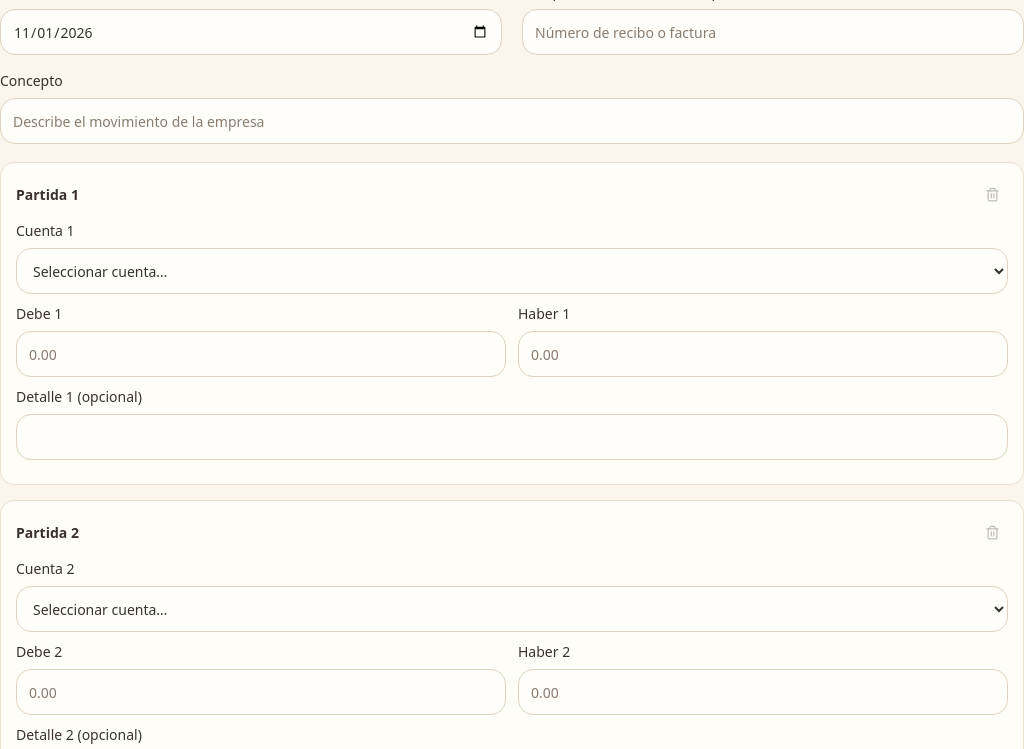
it: Registro en el libro diario › no permite poner debe y haber en una misma partida
The image size is (1024, 749).
Type "Movimiento" into the field labelled "Concepto" at (512, 121), box [0,98,1023,144]
Select "5101 · Alquiler" in the dropdown labelled "Cuenta 1" at (512, 271), box [16,248,1008,294]
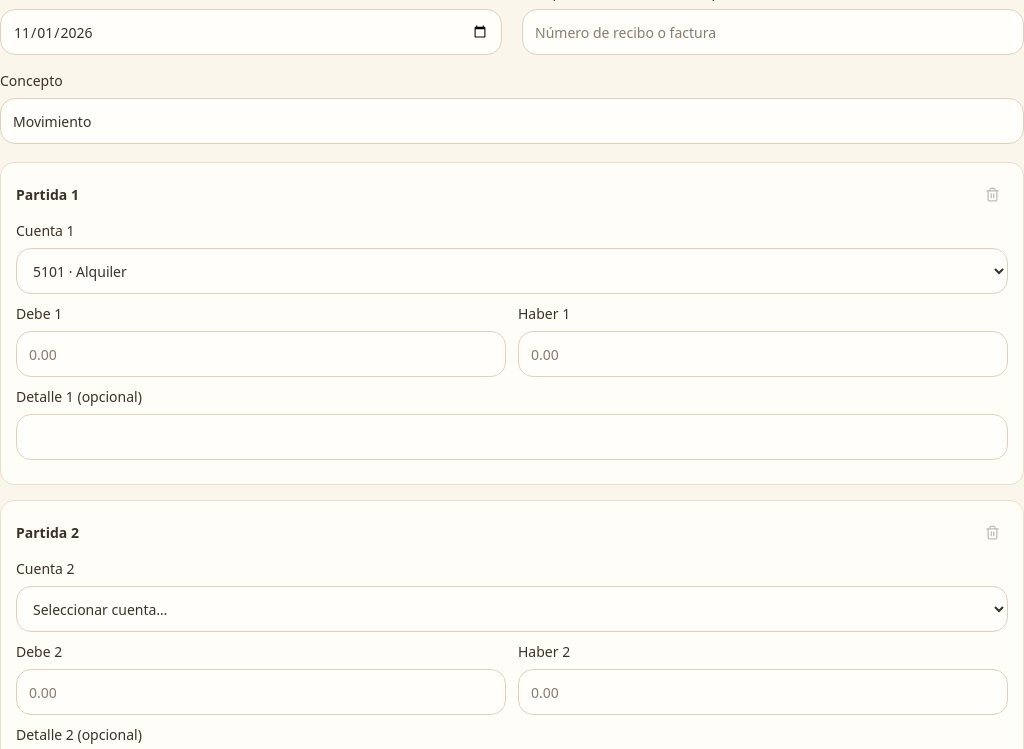
Type "10" into the field labelled "Debe 1" at (261, 354), box [16,331,506,377]
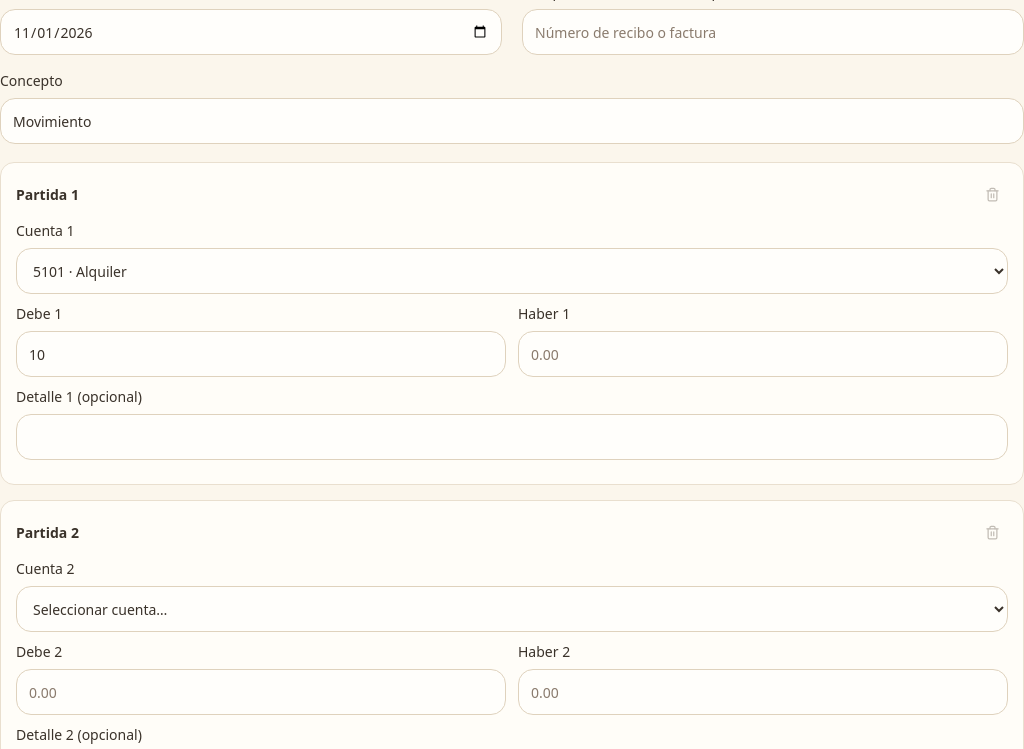
Type "10" into the field labelled "Haber 1" at (763, 354), box [518,331,1008,377]
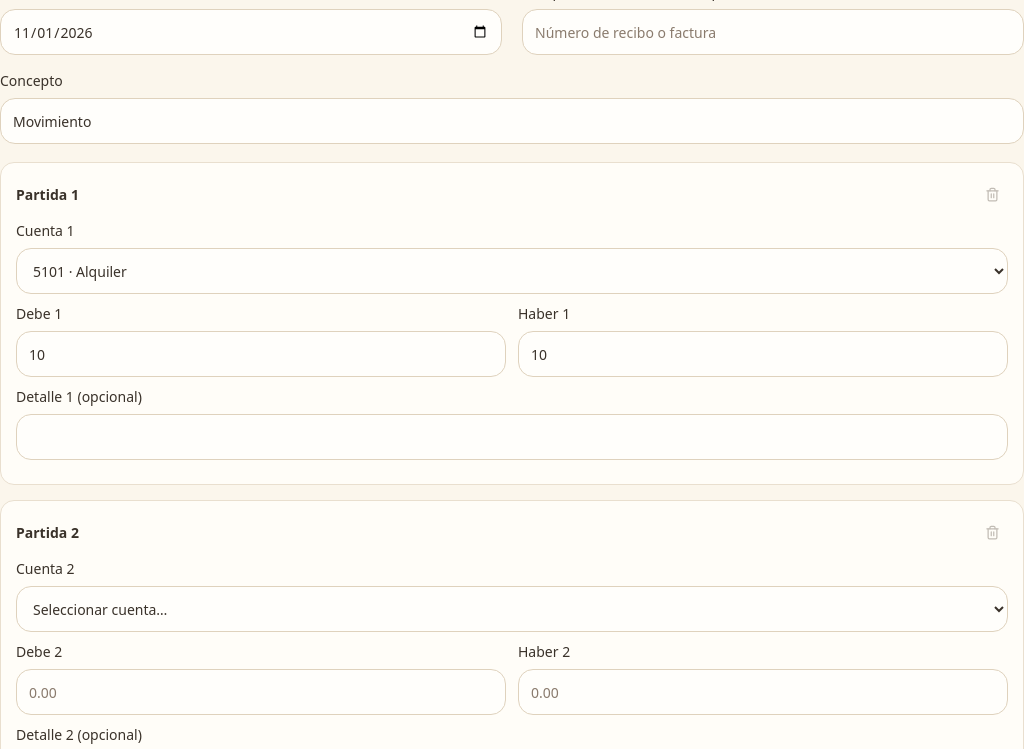
Select "1101 · Caja" in the dropdown labelled "Cuenta 2" at (512, 609), box [16,586,1008,632]
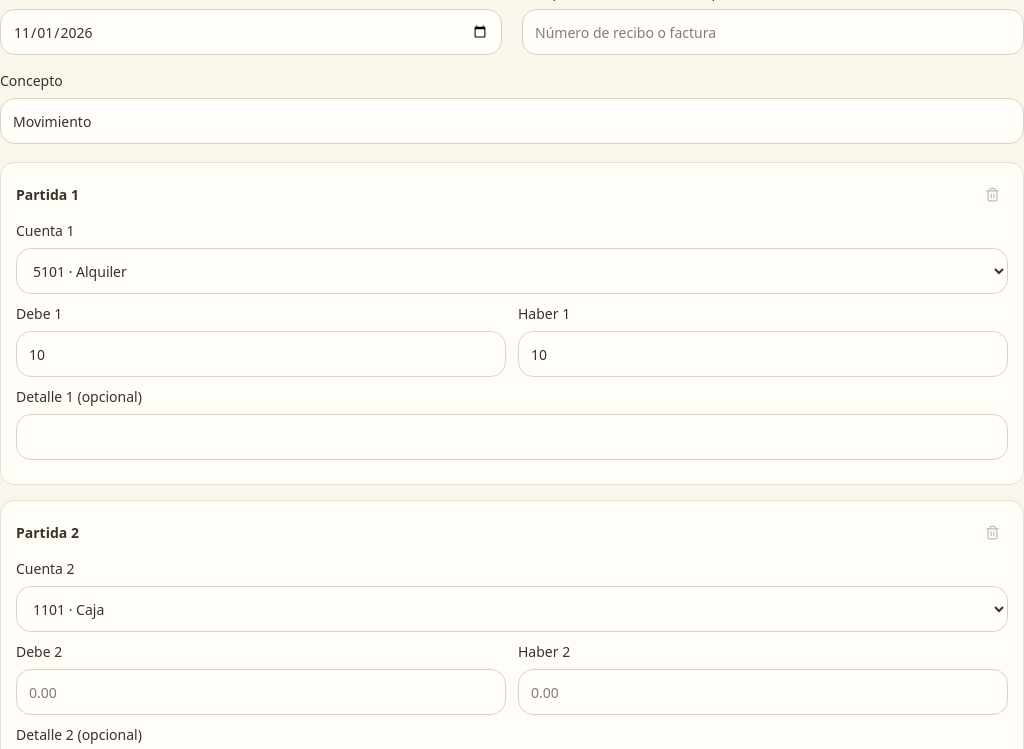
Type "10" into the field labelled "Haber 2" at (763, 692), box [518,669,1008,715]
(page scrolled)
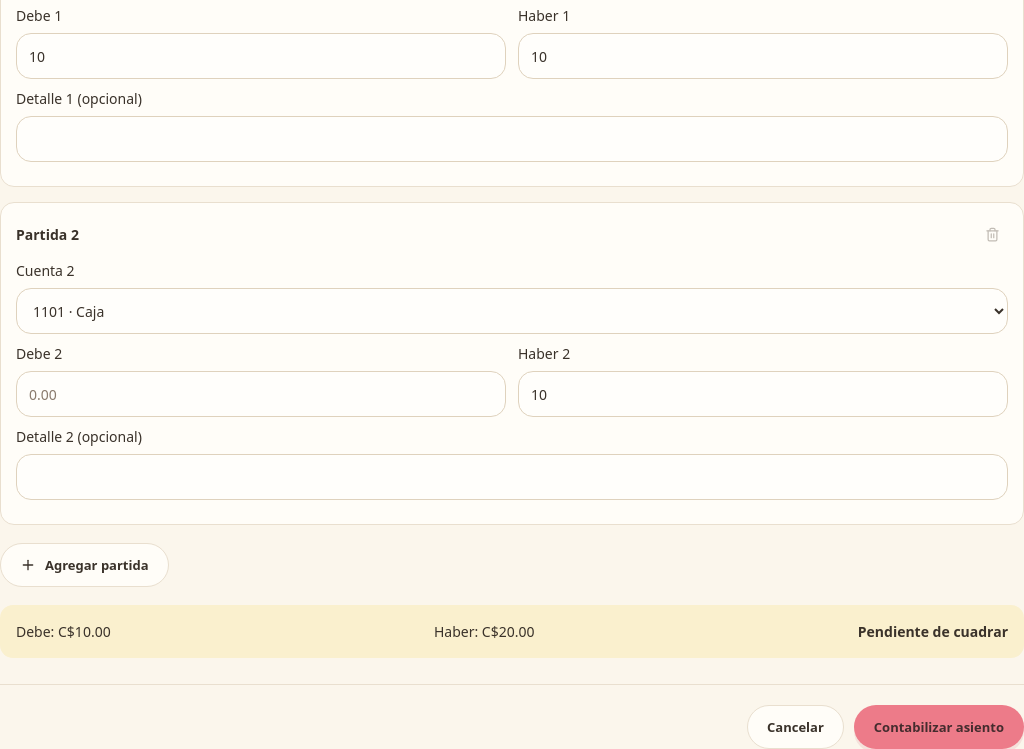
Click the button "Contabilizar asiento" at (939, 727), box [854,705,1023,748]
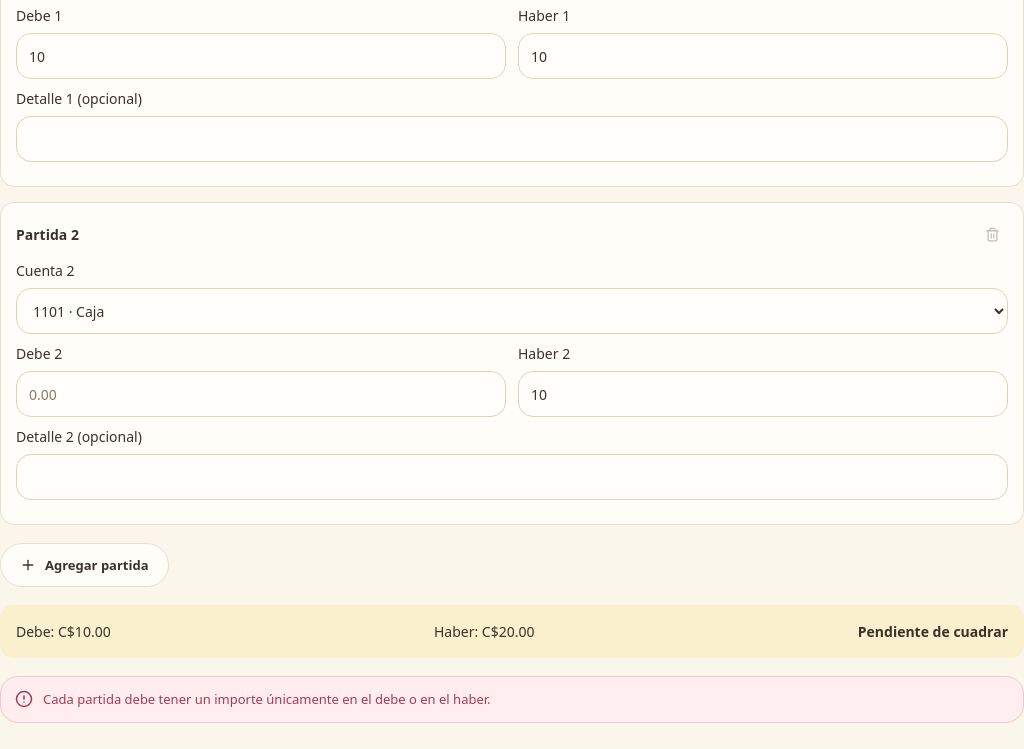
Expected: the message shows "únicamente en el debe o en el haber", [43,690,490,708]
